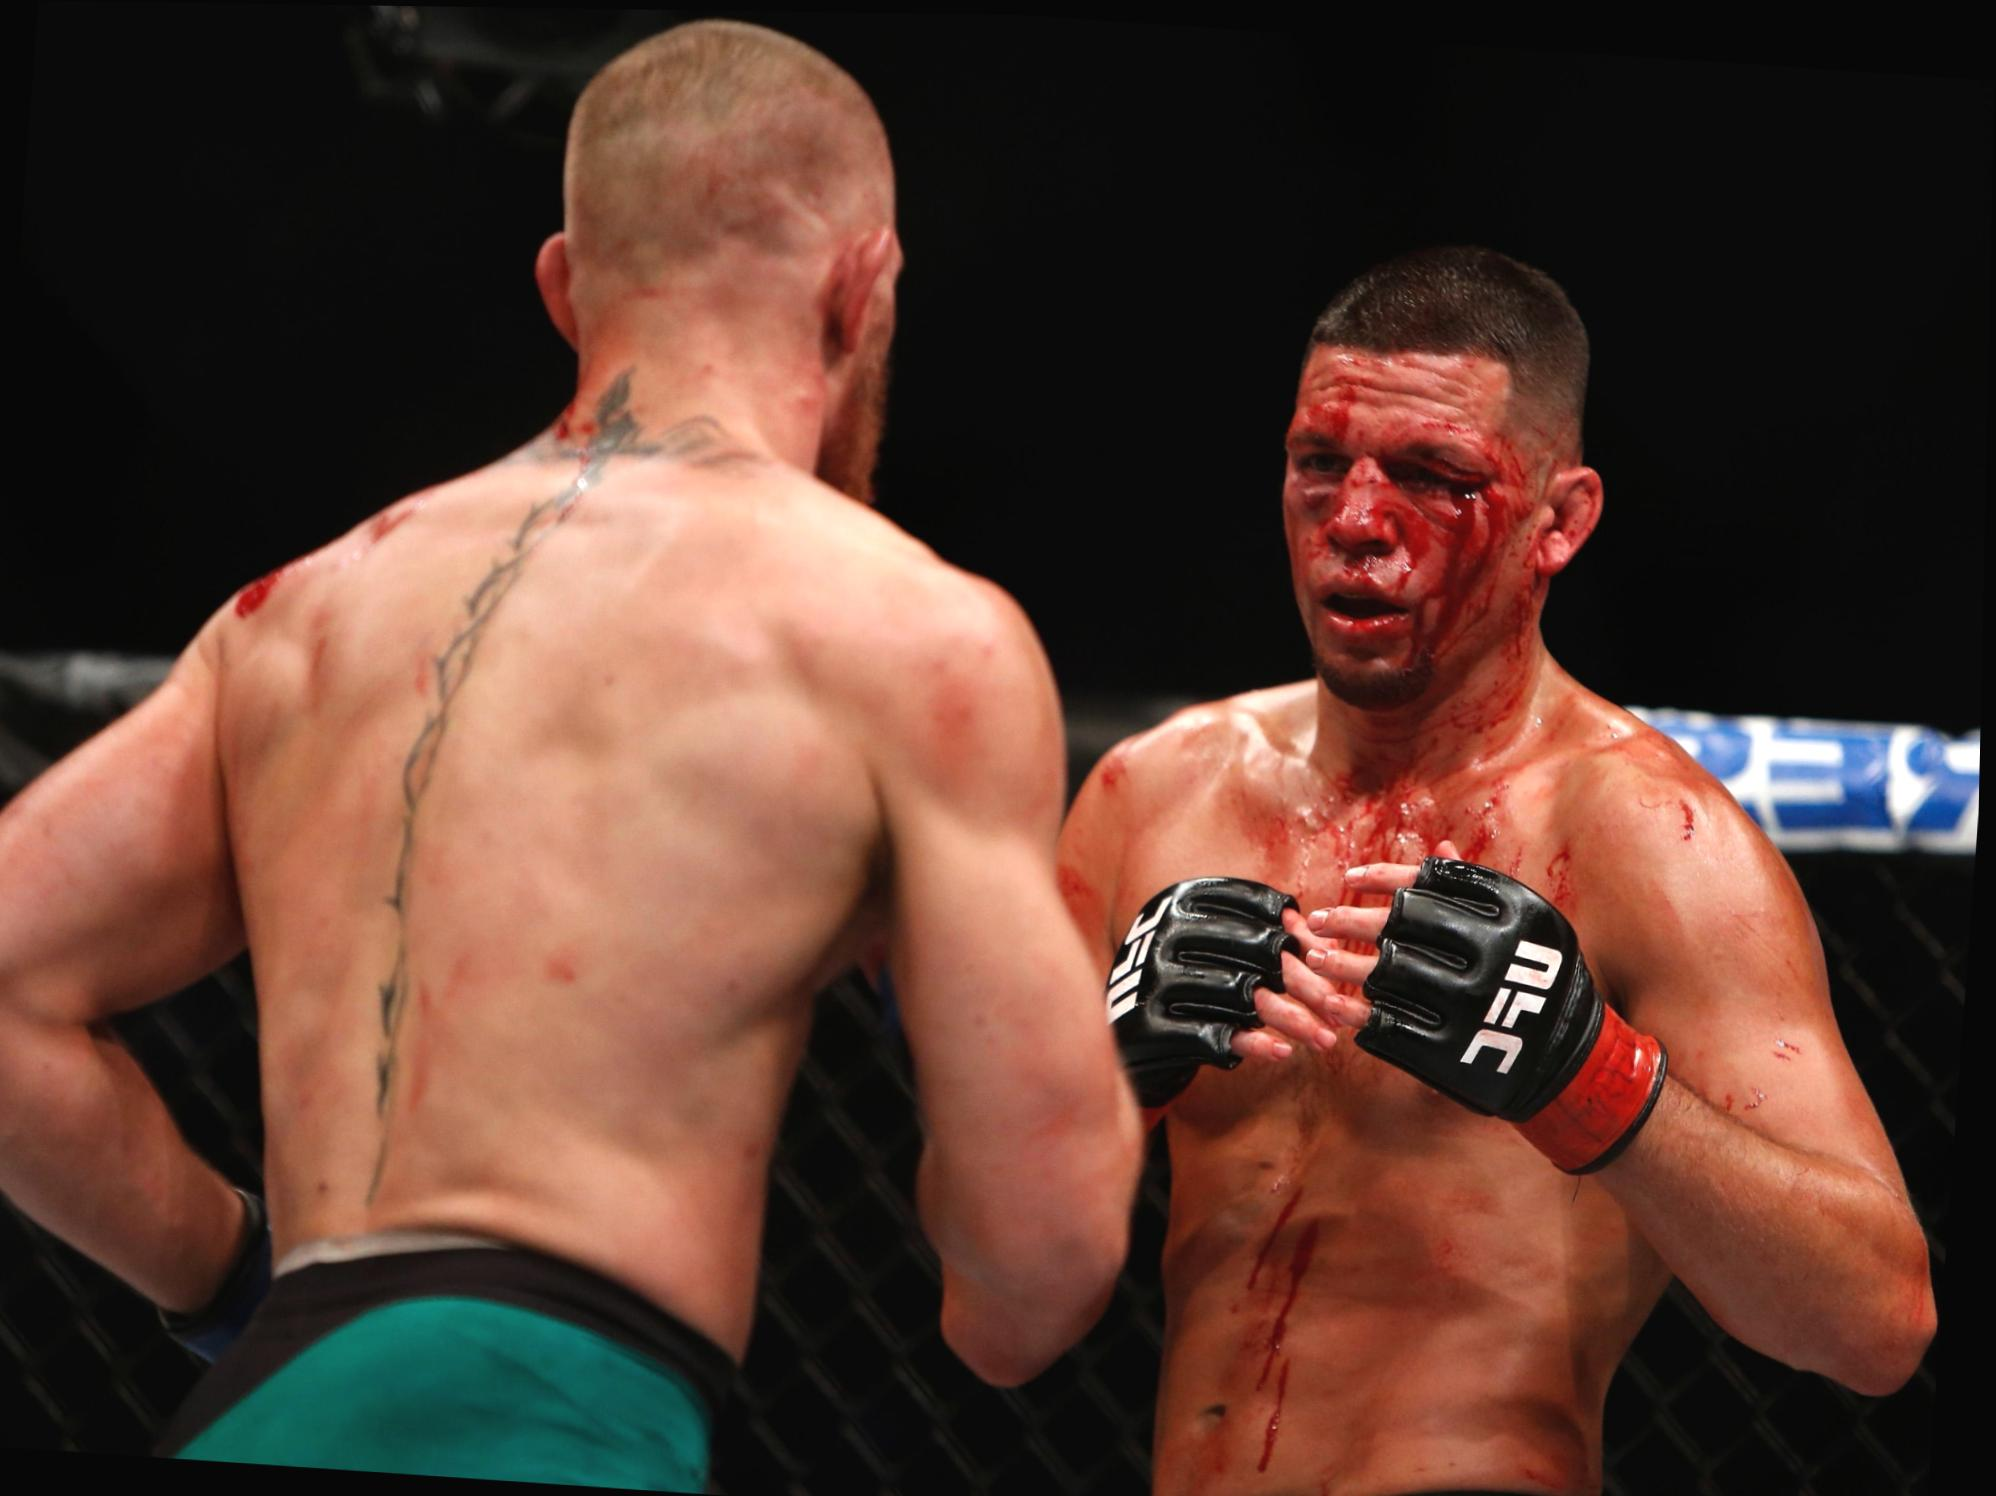Fire: (1220, 341, 1748, 927), (1183, 1153, 1355, 1496), (1674, 1028, 1811, 1128), (1284, 1023, 1364, 1152), (516, 371, 627, 460), (1062, 856, 1122, 949), (1506, 1447, 1609, 1496), (234, 563, 291, 616), (355, 495, 418, 542), (1095, 751, 1132, 794), (1347, 938, 1383, 949), (1341, 979, 1363, 992)
